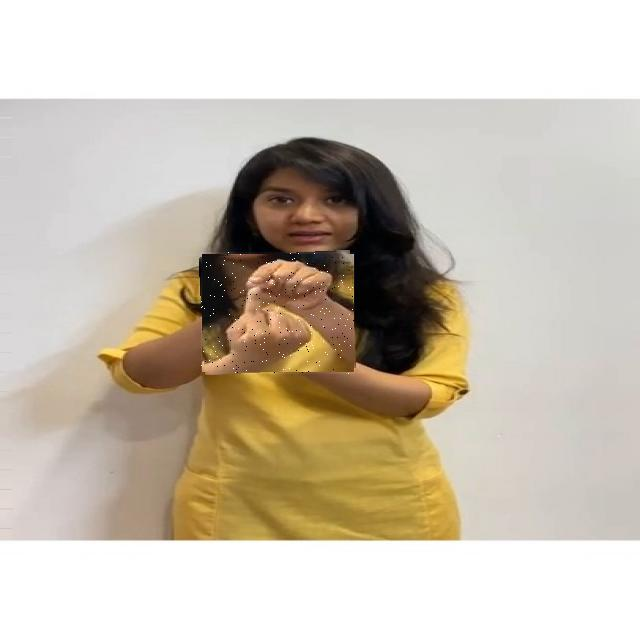I: (201, 252, 355, 374)
